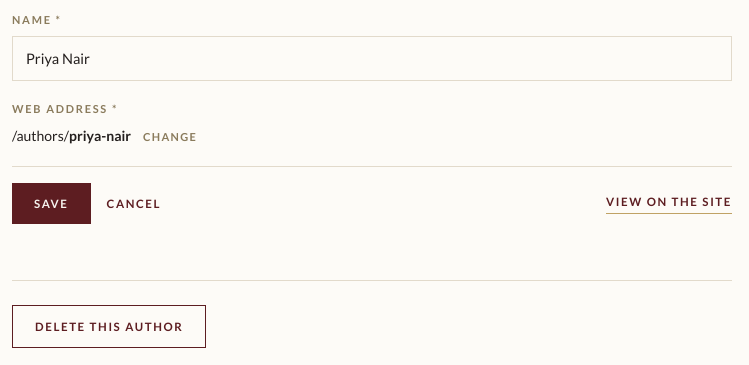
RecordForm chrome › says nothing about unsaved changes until something is changed
The width and height of the screenshot is (749, 365).
Expected: the text "Unsaved changes" is not shown
Replace the text in the field labelled "Name *" with "Priya S. Nair" at point(372, 58), box [12,36,732,81]
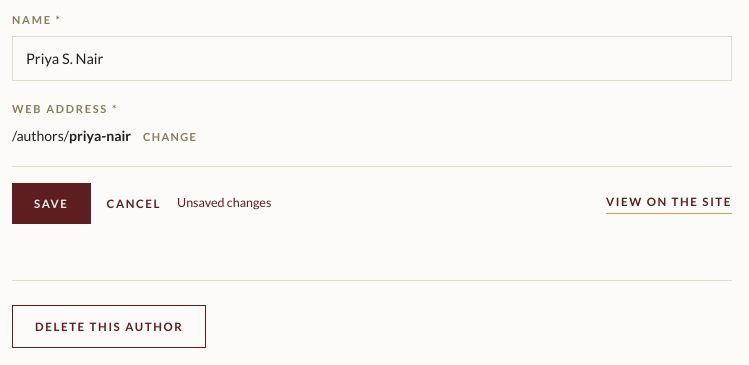
Expected: the text "Unsaved changes" is shown, [177,194,271,213]
